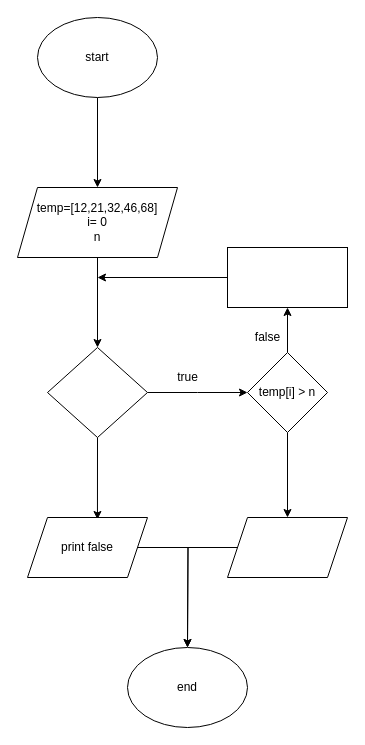
The diagram is 365 pixels wide and 745 high, and some of its shapes have lost their labels. The shapes that lost their labels are listed below. From the top down, each one's centre as x and y in pixels, then its label:
the point at 287,277: i++
the point at 97,392: i < temp.length
the point at 287,547: print true
